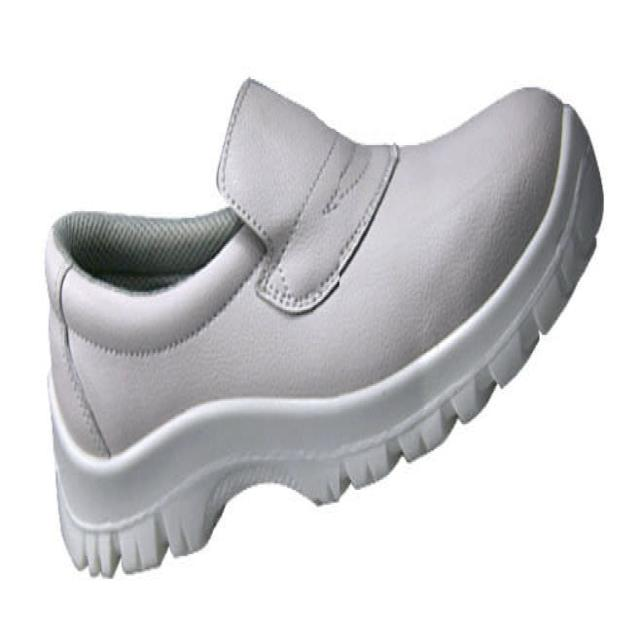shoe: (38, 64, 613, 581)
